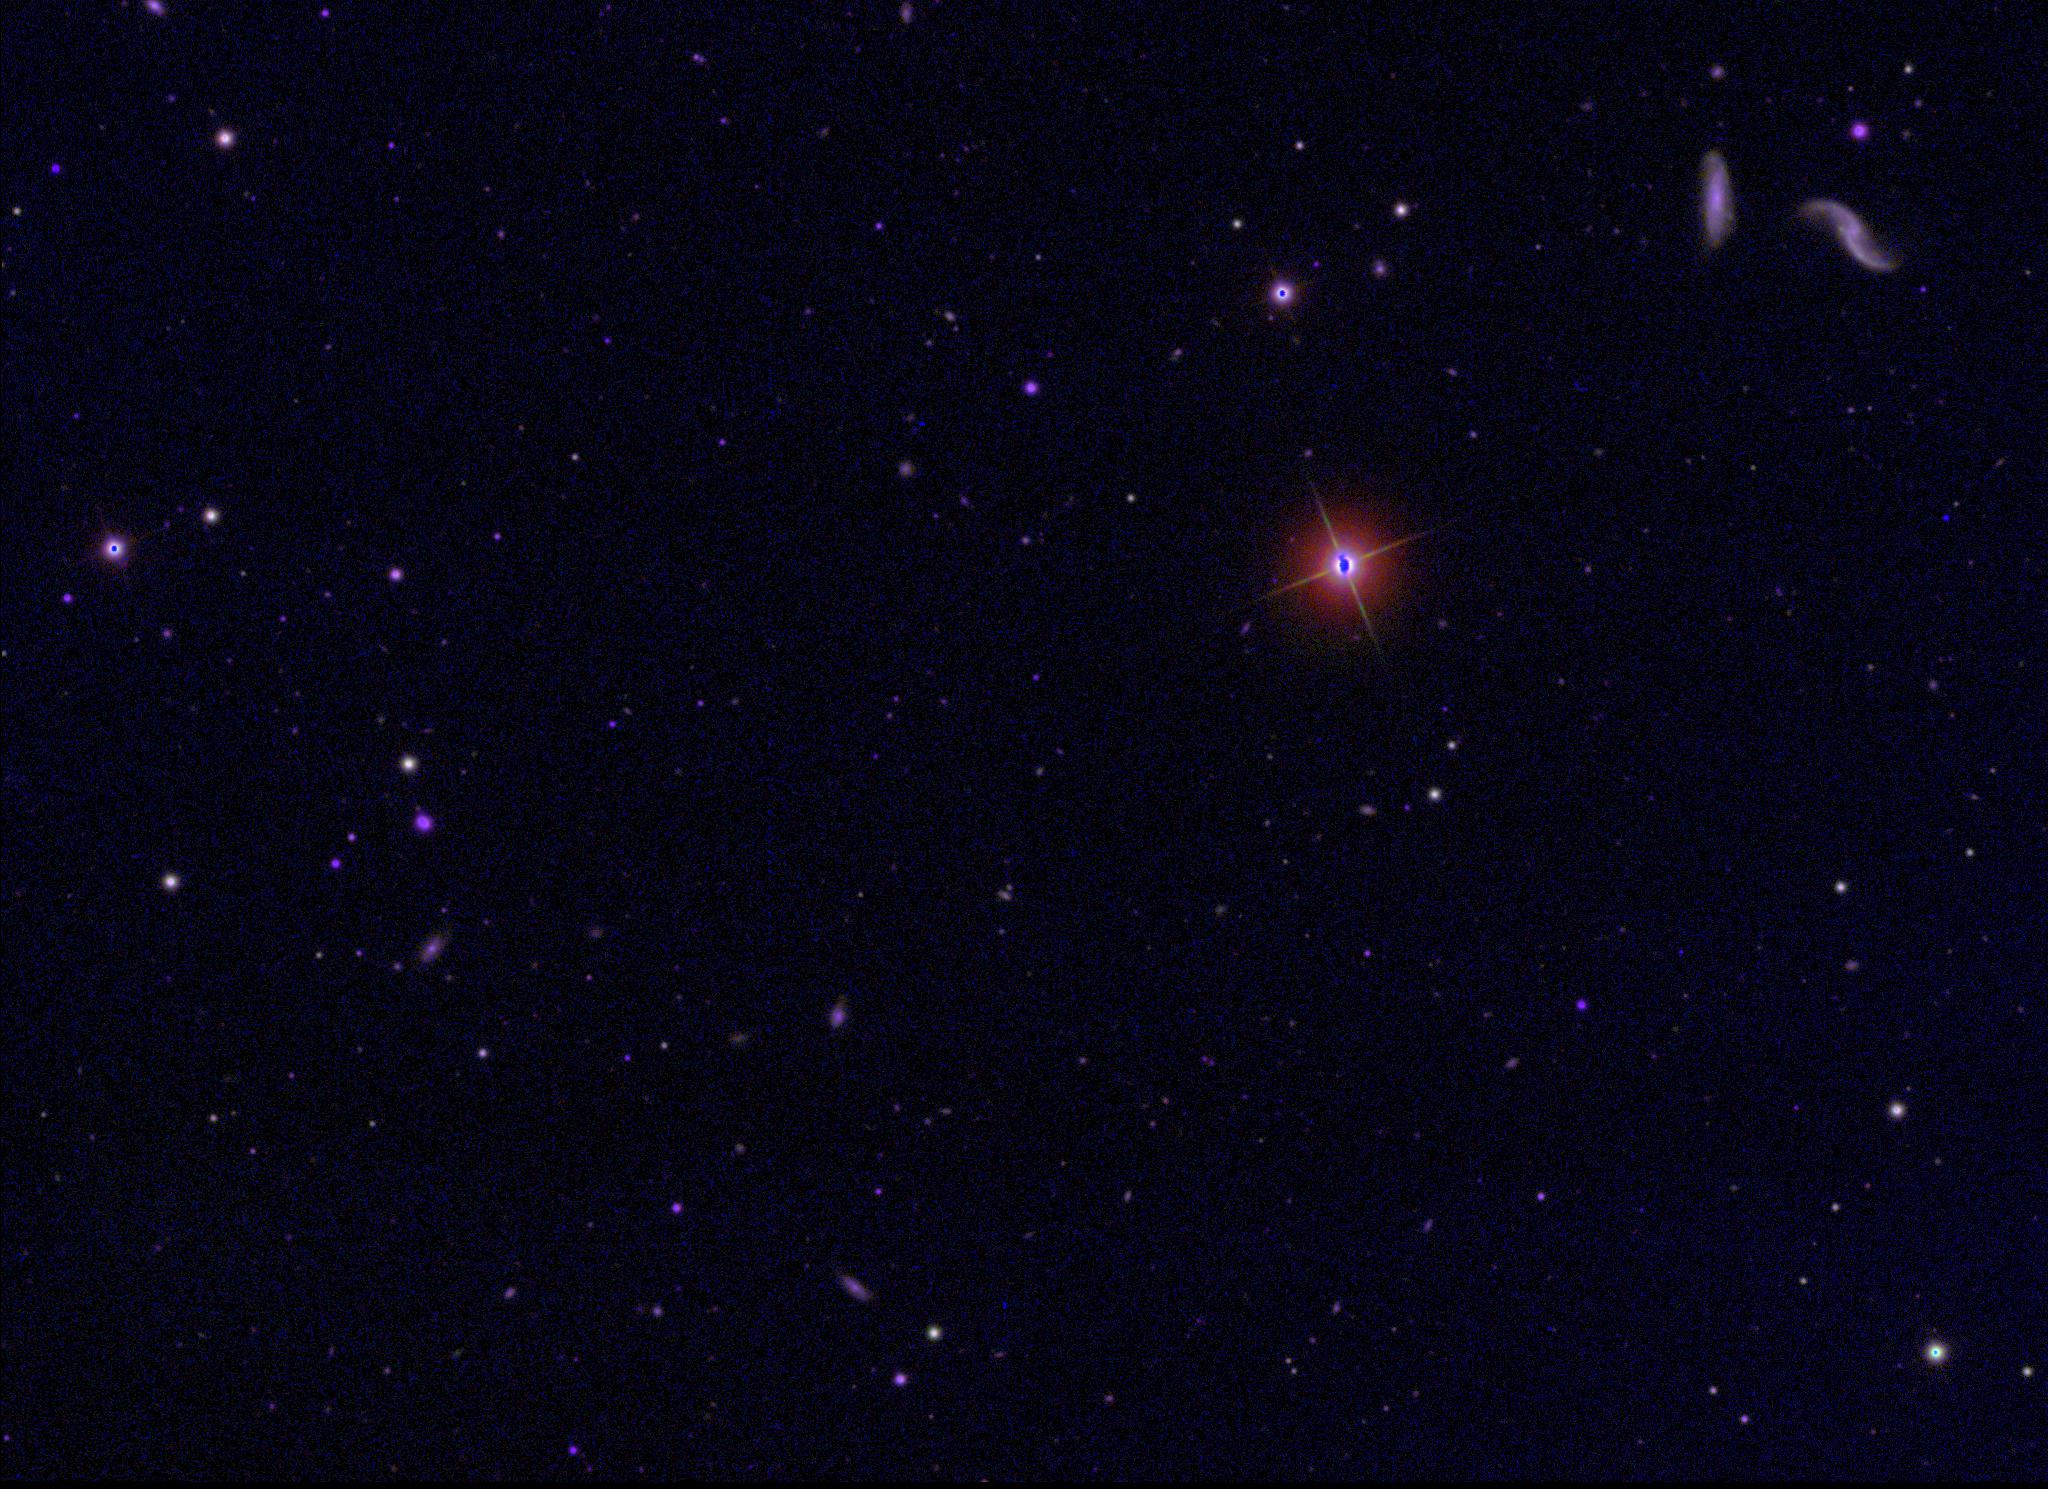L: (1938, 511, 1953, 525)
